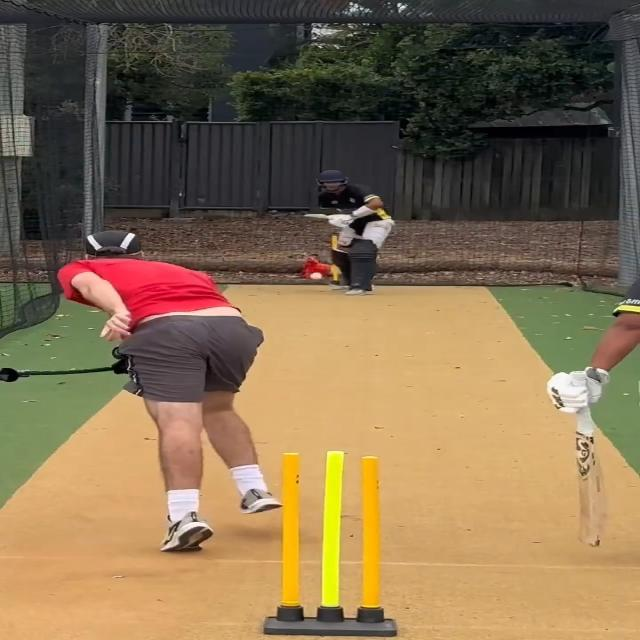ball: (309, 272, 325, 282)
stump: (262, 451, 399, 638)
